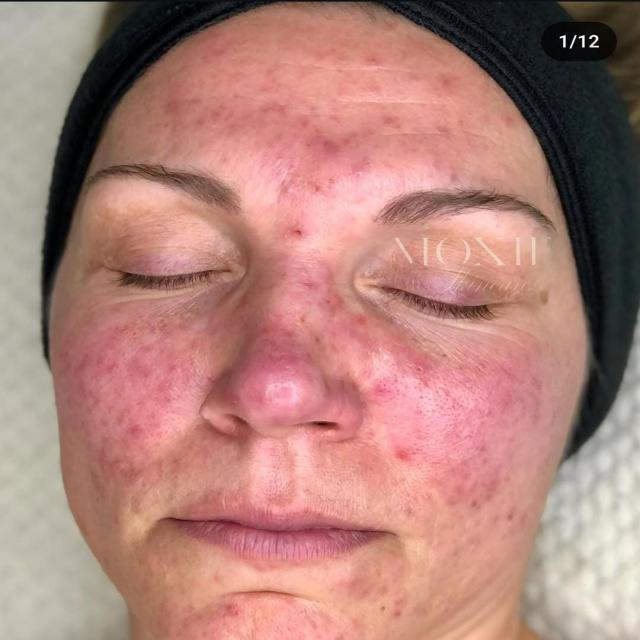Rosacea: (34, 313, 546, 496), (204, 99, 363, 184)
